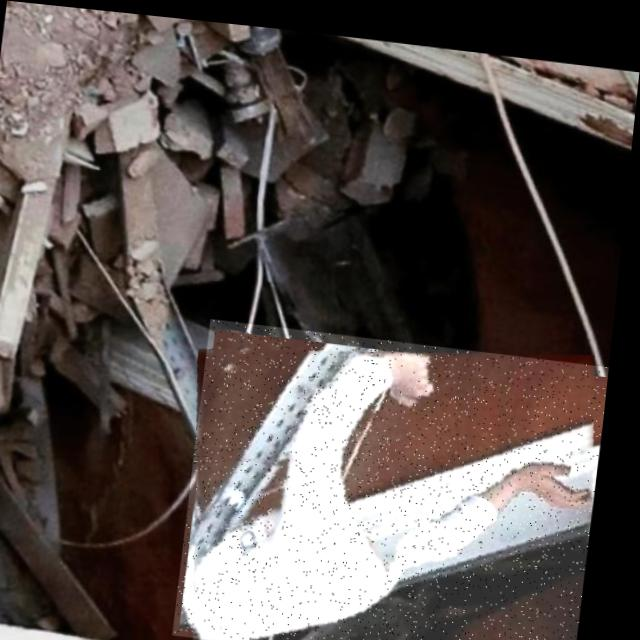Person in Rubble: (184, 313, 616, 640)
